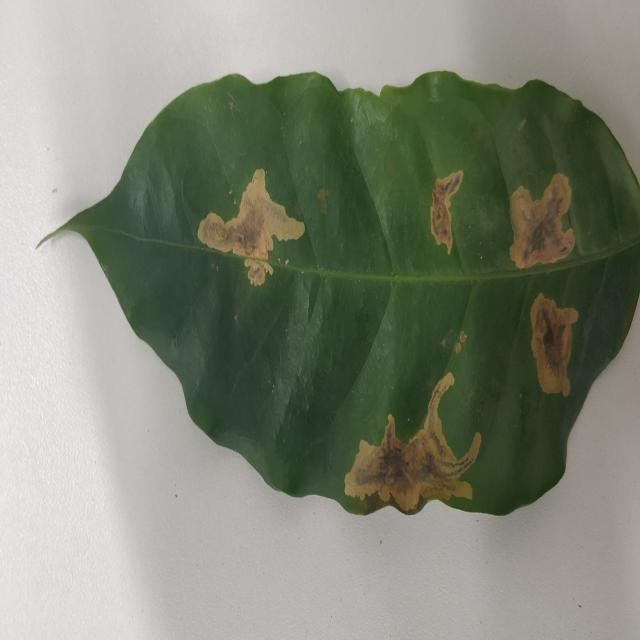Plaga-Minador: (38, 71, 640, 519)
